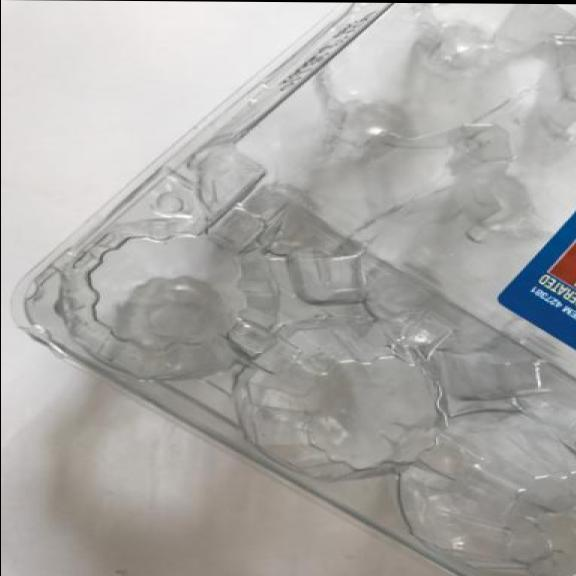Plastik: (4, 0, 576, 576)
